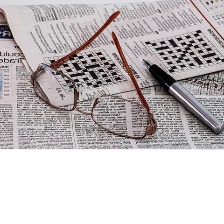news_paper: (0, 9, 224, 151), (0, 0, 224, 108)
